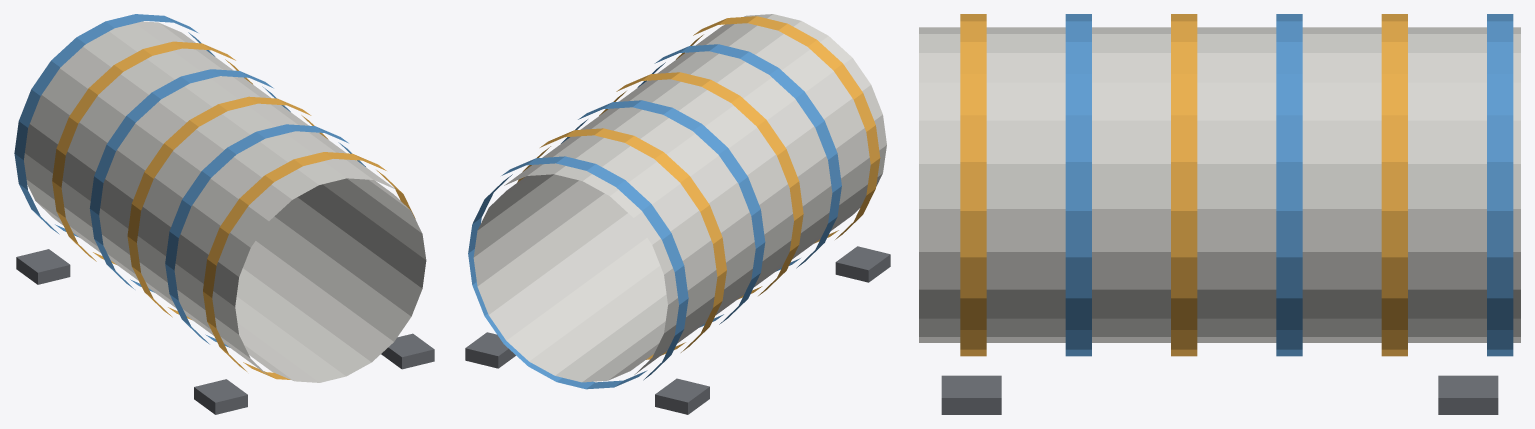
The model's file is boarding-kennels-and-cattery-boarding-kennels-and-catt-ca8d415b__35574.glb.
3 renders of one model, left to right at view 1: azimuth 30°, elevation 25°; view 2: azimuth 150°, elevation 25°; view 3: azimuth 270°, elevation 25°, orthographic. The views are drawn at different scales.
Visible parts, largest first — view 1: boarding-kennels-and-cattery-agility-tunnel; view 2: boarding-kennels-and-cattery-agility-tunnel; view 3: boarding-kennels-and-cattery-agility-tunnel.
Part boxes in pixels (x1=…): boarding-kennels-and-cattery-agility-tunnel: x1=14, y1=14, x2=434, y2=414; boarding-kennels-and-cattery-agility-tunnel: x1=465, y1=14, x2=890, y2=414; boarding-kennels-and-cattery-agility-tunnel: x1=919, y1=14, x2=1520, y2=414.
Size of the model in its own units: 0.9399 by 0.9054 by 1.6.
